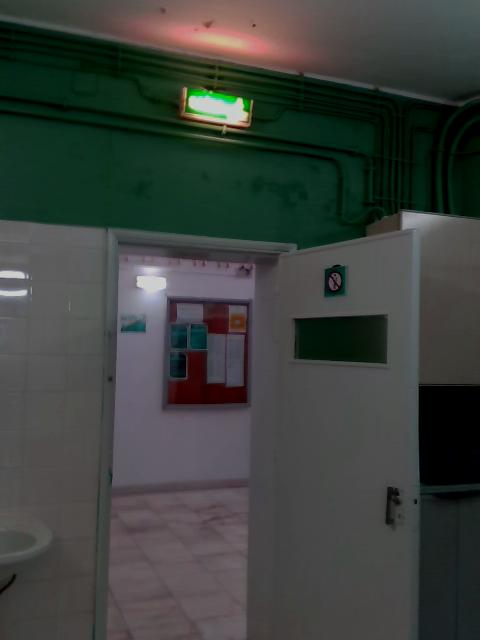open_door: (93, 227, 295, 639)
